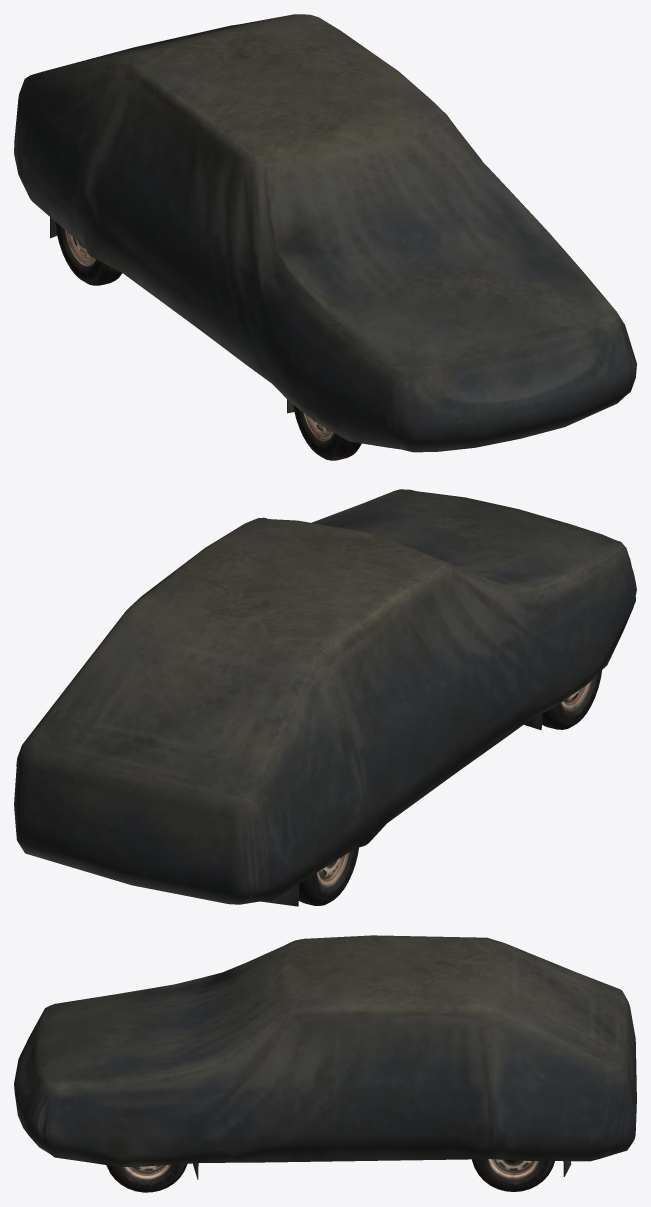
Rendered from covered_car.glb.
3 views of the same model, one above another, from view 1: azimuth 30°, elevation 25°; view 2: azimuth 150°, elevation 25°; view 3: azimuth 270°, elevation 25° (orthographic). The views are drawn at different scales.
Parts seen in each view (by area): view 1: covered_car, covered_car_wheel_03, covered_car_wheel_02; view 2: covered_car, covered_car_wheel_03, covered_car_wheel_02; view 3: covered_car, covered_car_wheel_04, covered_car_wheel_01.
Part boxes in pixels (left/top/right/bottom): covered_car: left=14, top=14, right=636, bottom=452; covered_car_wheel_03: left=55, top=222, right=122, bottom=285; covered_car_wheel_02: left=293, top=405, right=361, bottom=460; covered_car: left=14, top=489, right=636, bottom=906; covered_car_wheel_03: left=298, top=847, right=358, bottom=905; covered_car_wheel_02: left=542, top=670, right=601, bottom=729; covered_car: left=14, top=935, right=636, bottom=1179; covered_car_wheel_04: left=472, top=1159, right=554, bottom=1191; covered_car_wheel_01: left=106, top=1163, right=187, bottom=1192.
Bounding box in the file's own units: 1.79 × 1.41 × 4.38.
1 material, 1 textured.
